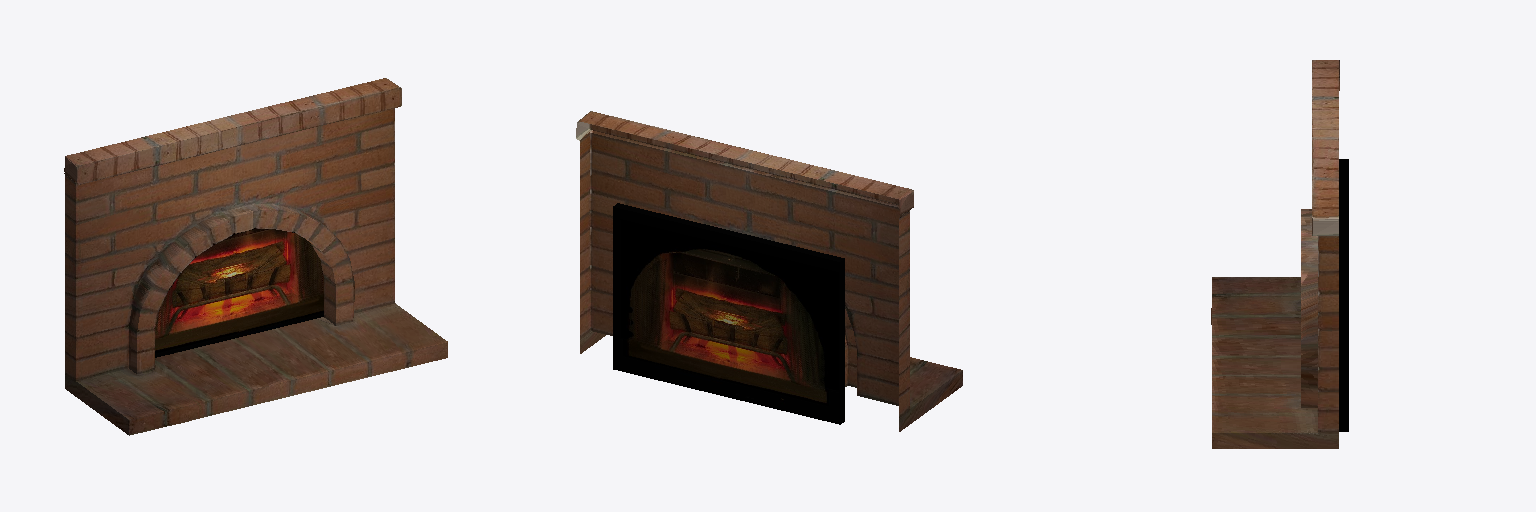
The picture shows the model from 3 angles: view 1: azimuth 30°, elevation 25°; view 2: azimuth 150°, elevation 25°; view 3: azimuth 270°, elevation 25°; orthographic projection.
Visible parts, largest first — view 1: fireplace; view 2: fireplace; view 3: fireplace.
Part boxes in pixels (bbox=[...]): fireplace: bbox=[64, 78, 447, 435]; fireplace: bbox=[576, 111, 962, 431]; fireplace: bbox=[1211, 60, 1348, 448].
Size of the model in its own units: 86.98 by 60.05 by 31.95.
Materials: 2 (2 with a texture image).